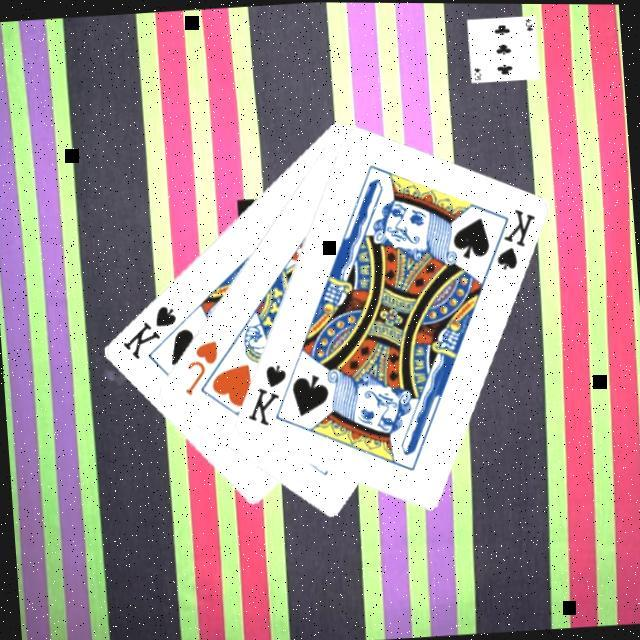JH: (179, 334, 225, 398)
KS: (480, 202, 542, 274), (116, 299, 184, 362), (241, 358, 295, 429)
